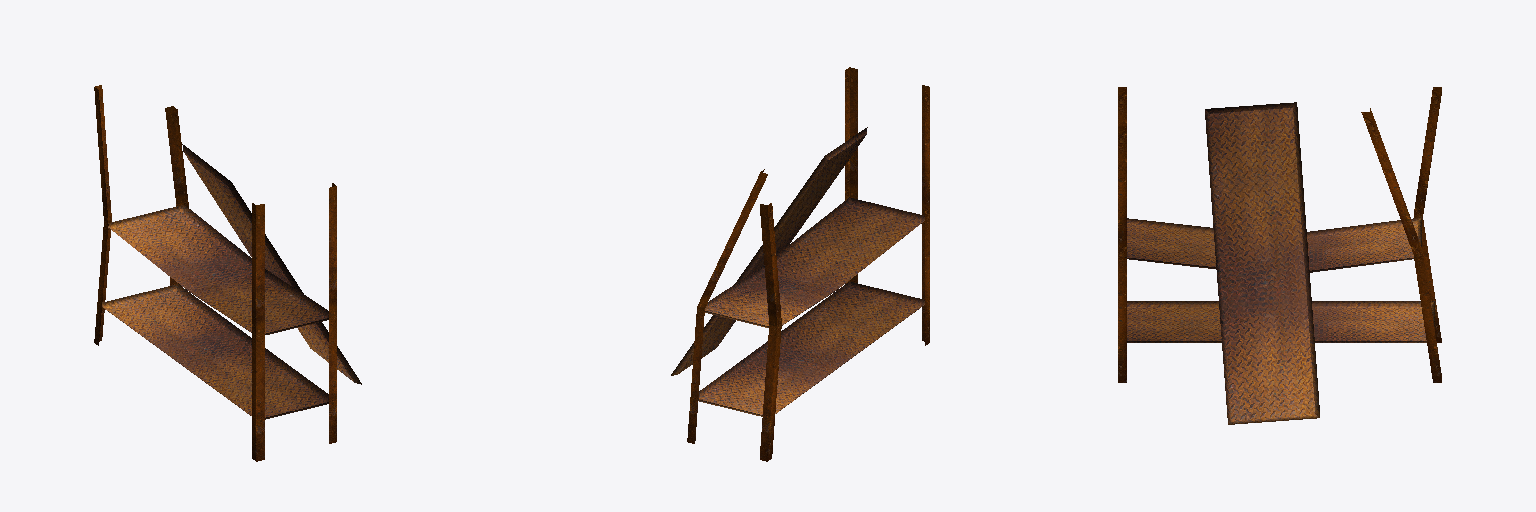
3 views of the same model, side by side, from view 1: azimuth 30°, elevation 25°; view 2: azimuth 150°, elevation 25°; view 3: azimuth 270°, elevation 25° (orthographic).
Visible parts, largest first — view 1: Rack2; view 2: Rack2; view 3: Rack2.
Part boxes in pixels (left/top/right/bottom): Rack2: left=94, top=85, right=361, bottom=461; Rack2: left=671, top=67, right=929, bottom=461; Rack2: left=1118, top=87, right=1441, bottom=424.
Size of the model in its own units: 4.02 by 6.17 by 7.
1 materials, 1 textured.